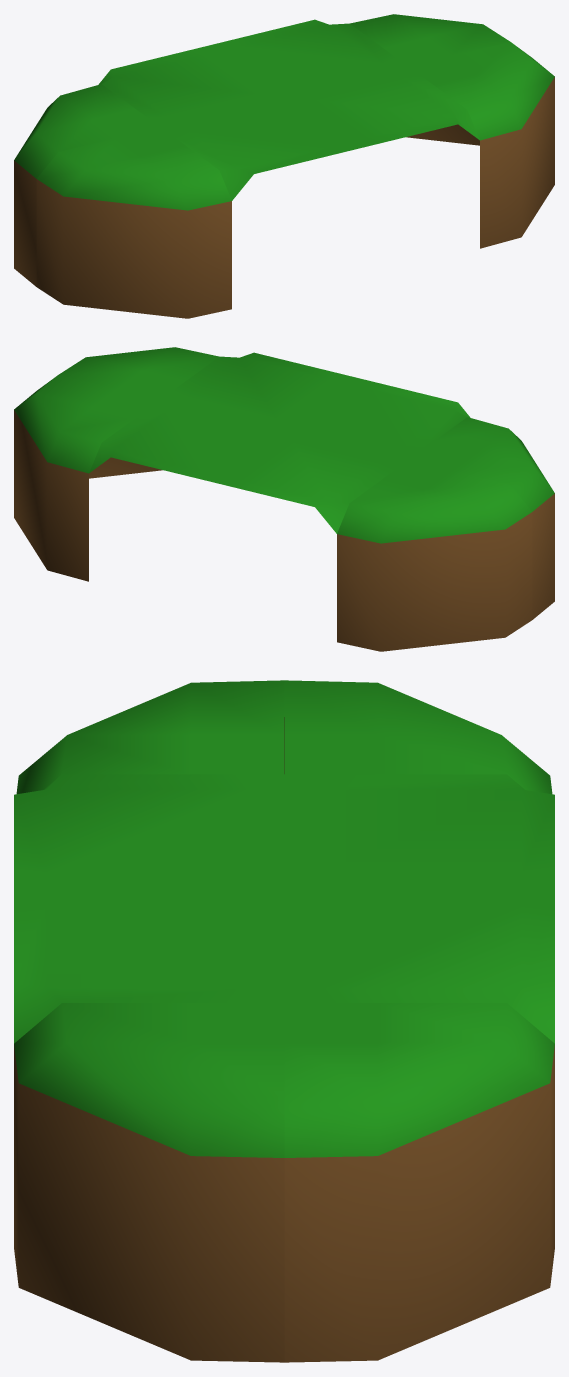
The model's file is mdl_tilesV2_rework.fbx.
The picture shows the model from 3 angles, top to bottom: view 1: azimuth 30°, elevation 25°; view 2: azimuth 150°, elevation 25°; view 3: azimuth 270°, elevation 25°; orthographic projection. The views are drawn at different scales.
Parts seen in each view (by area): view 1: Up_Back_Right, Up_Back_Left, Up_Conector_C_NoBackRight, Up_Conector_C_NoBackLeft, Up_Conector_C_NoFrontRight, Up_Conector_C_NoFrontLeft, Up_Front_Right, Up_Front_Left; view 2: Up_Front_Right, Up_Front_Left, Up_Conector_C_NoFrontRight, Up_Conector_C_NoFrontLeft, Up_Conector_C_NoBackRight, Up_Conector_C_NoBackLeft, Up_Back_Right, Up_Back_Left; view 3: Up_Back_Left, Up_Front_Left, Up_Conector_C_NoFrontLeft, Up_Conector_C_NoBackLeft, Up_Conector_C_NoBackRight, Up_Conector_C_NoFrontRight, Up_Front_Right, Up_Back_Right.
Boxes of the visible parts, x1,y1,x2,y2 form: Up_Back_Right: (36,127,231,318); Up_Back_Left: (409,42,554,248); Up_Conector_C_NoBackRight: (161,97,355,200); Up_Conector_C_NoBackLeft: (285,66,479,149); Up_Conector_C_NoFrontRight: (98,44,283,126); Up_Conector_C_NoFrontLeft: (213,19,407,96); Up_Front_Right: (14,84,160,286); Up_Front_Left: (350,14,509,145); Up_Front_Right: (337,460,532,651); Up_Front_Left: (14,375,159,581); Up_Conector_C_NoFrontRight: (213,430,407,533); Up_Conector_C_NoFrontLeft: (89,399,283,482); Up_Conector_C_NoBackRight: (285,377,470,459); Up_Conector_C_NoBackLeft: (161,352,355,429); Up_Back_Right: (408,417,554,619); Up_Back_Left: (59,347,218,478); Up_Back_Left: (14,1003,284,1362); Up_Front_Left: (284,1003,554,1362); Up_Conector_C_NoFrontLeft: (284,888,554,1043); Up_Conector_C_NoBackLeft: (14,888,284,1043); Up_Conector_C_NoBackRight: (14,774,284,888); Up_Conector_C_NoFrontRight: (284,774,554,888); Up_Front_Right: (284,680,552,793); Up_Back_Right: (16,680,284,793).
Size of the model in its own units: 1 by 0.25 by 0.5.
